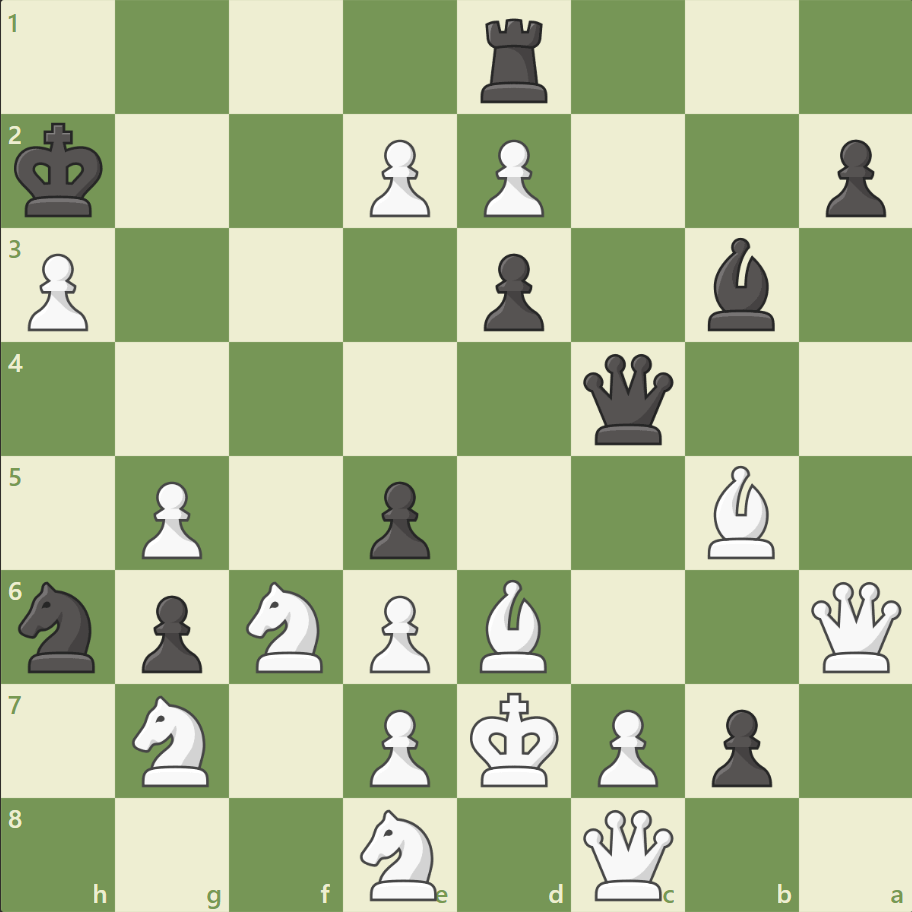B: (698, 460, 782, 563), (471, 574, 555, 676)
K: (465, 685, 565, 793)
N: (124, 688, 222, 791), (351, 802, 449, 904), (238, 575, 335, 677)
P: (133, 473, 208, 564), (20, 246, 95, 337), (474, 132, 549, 223), (588, 700, 662, 791), (361, 700, 435, 791), (361, 586, 435, 677), (361, 132, 435, 223)
Q: (805, 576, 904, 676), (578, 804, 677, 903)
b: (698, 233, 782, 336)
k: (11, 117, 111, 225)
n: (11, 575, 108, 677)
p: (701, 700, 776, 791), (133, 586, 208, 677), (474, 246, 549, 337), (361, 473, 435, 564), (815, 132, 889, 223)
q: (578, 349, 677, 449)
r: (473, 12, 556, 109)
